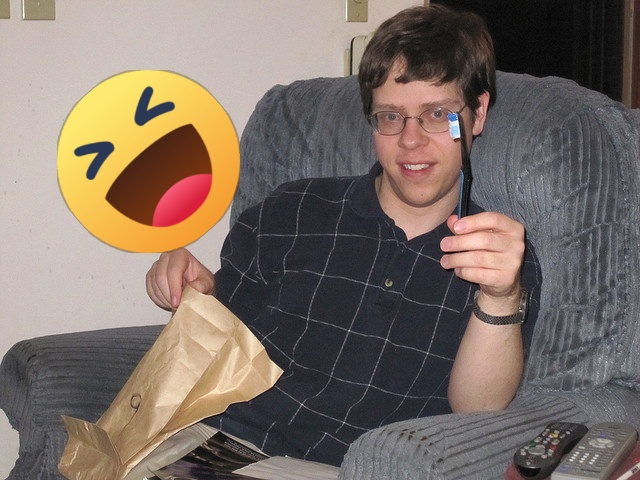haha: (57, 70, 240, 253)
